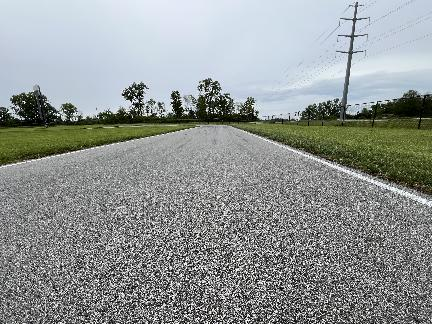Grass: (233, 125, 431, 193), (0, 126, 194, 164)
Lane: (0, 126, 431, 323)
